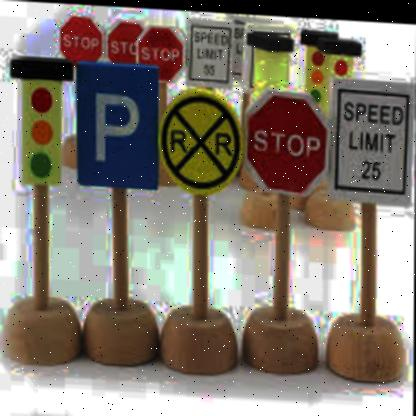Parking: (74, 60, 158, 191)
